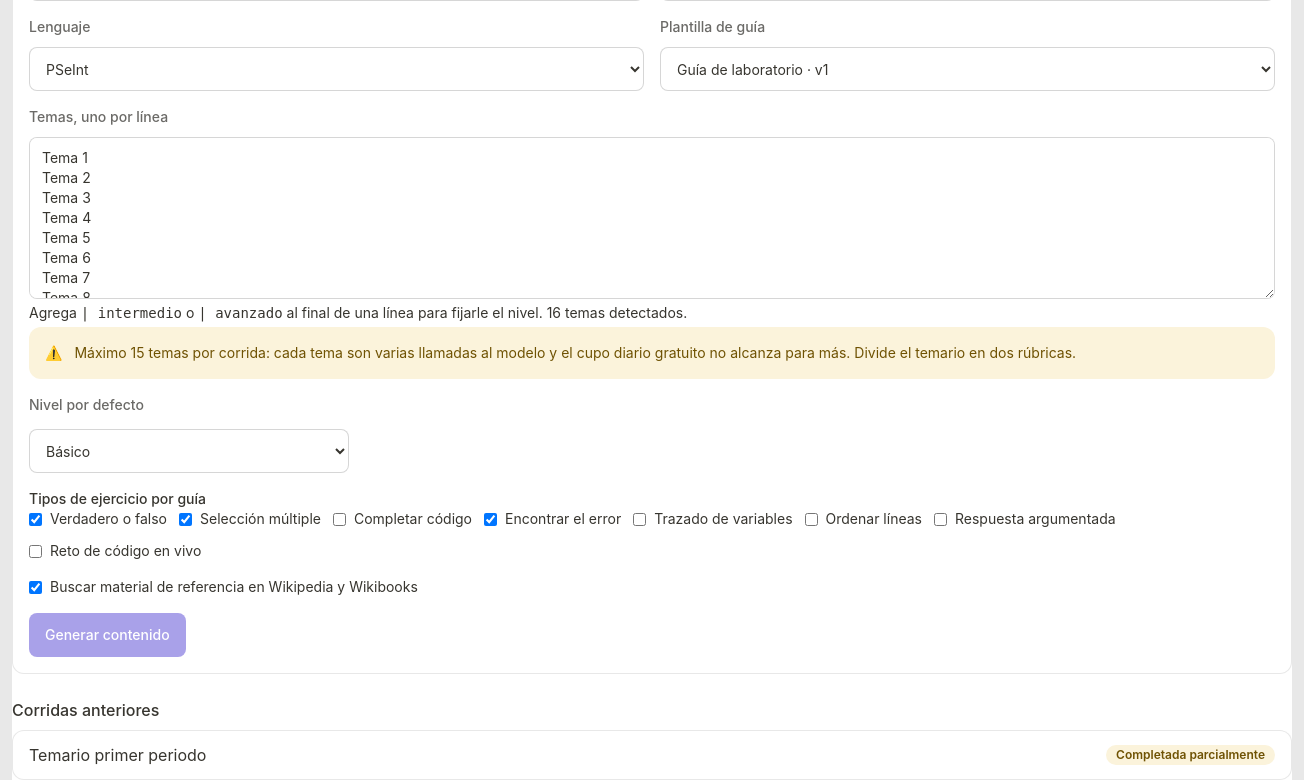
RubricTab › distingue una corrida parcial de una completa
(page scrolled)
Click the button "Temario primer periodo Completada parcialmente".
click(118, 755)  # box [12,730,1292,779]
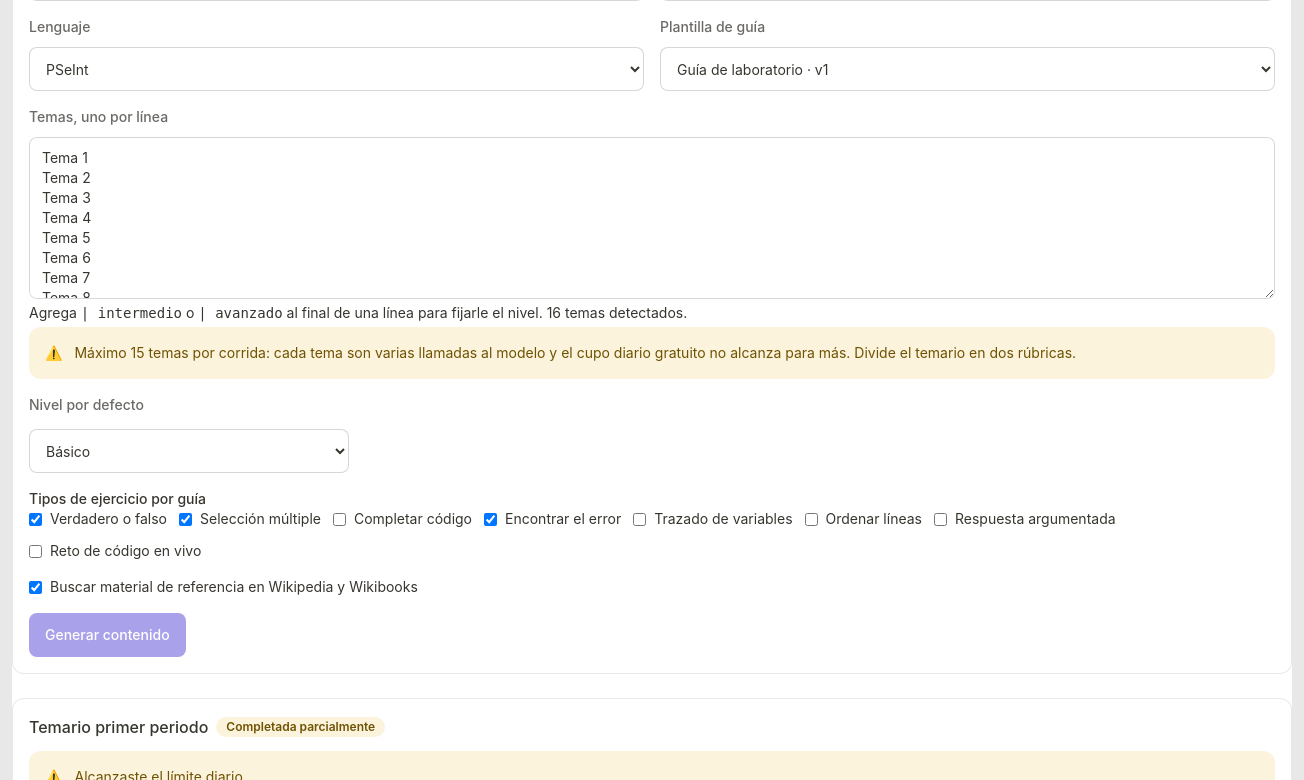
Result: the text "Completada parcialmente" is shown at [216,717,385,737]
